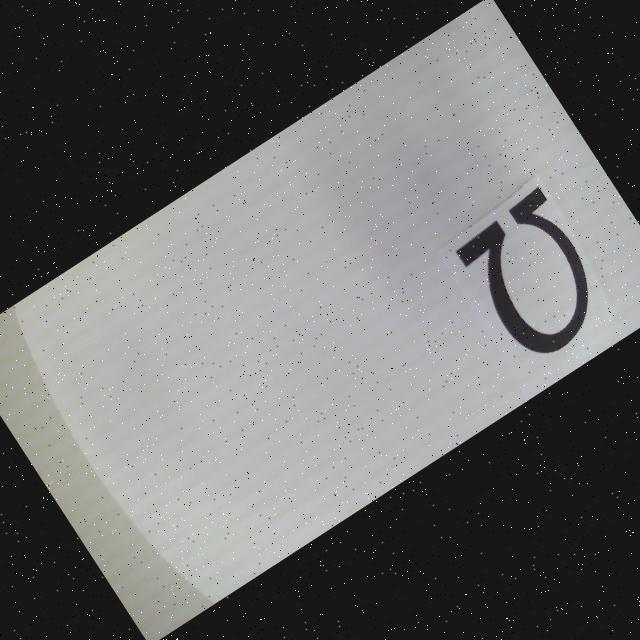OMEGA: (450, 185, 620, 367)
